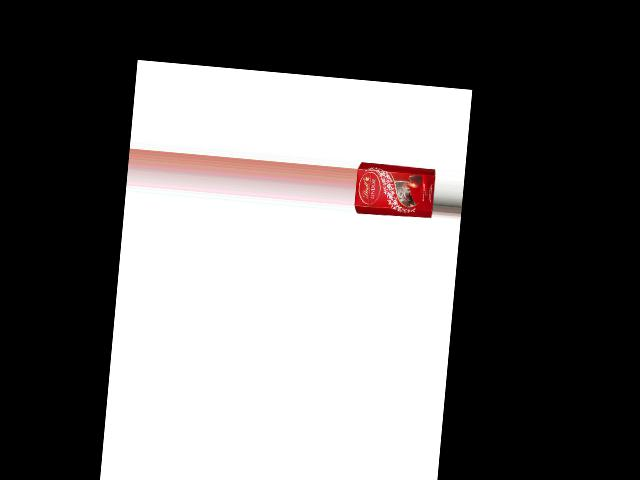chocolate: (353, 158, 437, 221)
